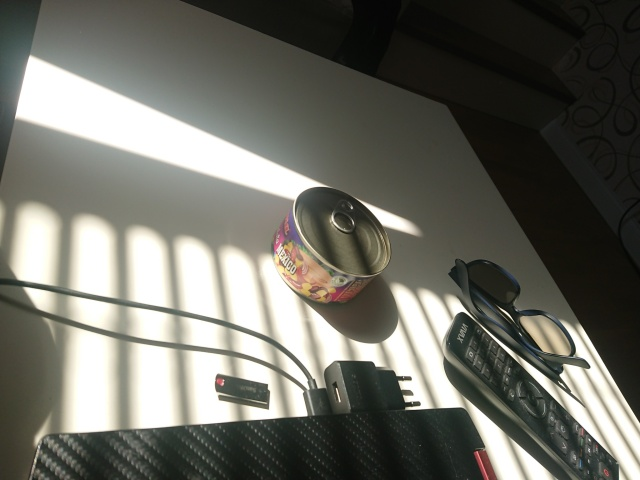Giana Tuna Salad Mexico 185g: (269, 184, 394, 307)
